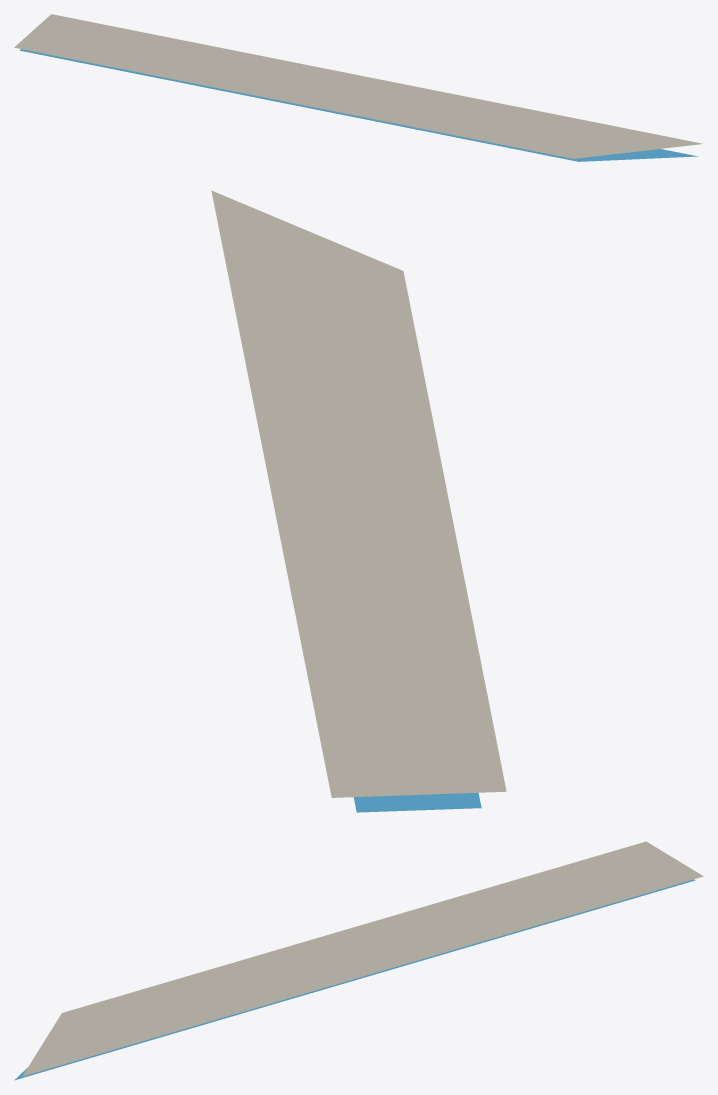
3 views of the same model, one above another, from view 1: azimuth 30°, elevation 25°; view 2: azimuth 150°, elevation 25°; view 3: azimuth 270°, elevation 25° (orthographic). The views are drawn at different scales.
Visible parts, largest first — view 1: estructura_terreno, estructura_agua; view 2: estructura_terreno, estructura_agua; view 3: estructura_terreno, estructura_agua.
Boxes of the visible parts, left/top/right/bottom form: estructura_terreno: left=14, top=14, right=702, bottom=158; estructura_agua: left=19, top=49, right=698, bottom=161; estructura_terreno: left=211, top=190, right=506, bottom=797; estructura_agua: left=353, top=792, right=481, bottom=812; estructura_terreno: left=22, top=841, right=703, bottom=1076; estructura_agua: left=14, top=879, right=695, bottom=1080.
Bounding box in the file's own units: 23.14 × 0.41 × 28.69.
